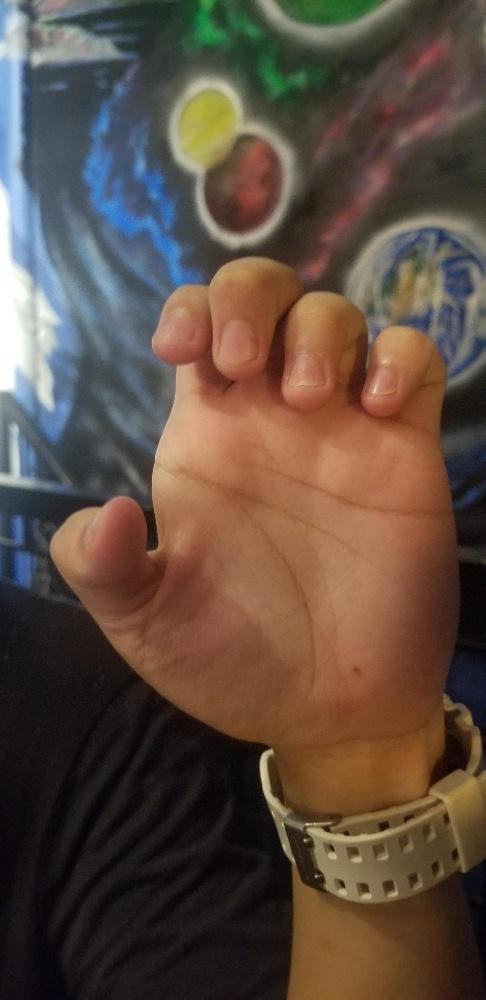e: (42, 255, 460, 735)
